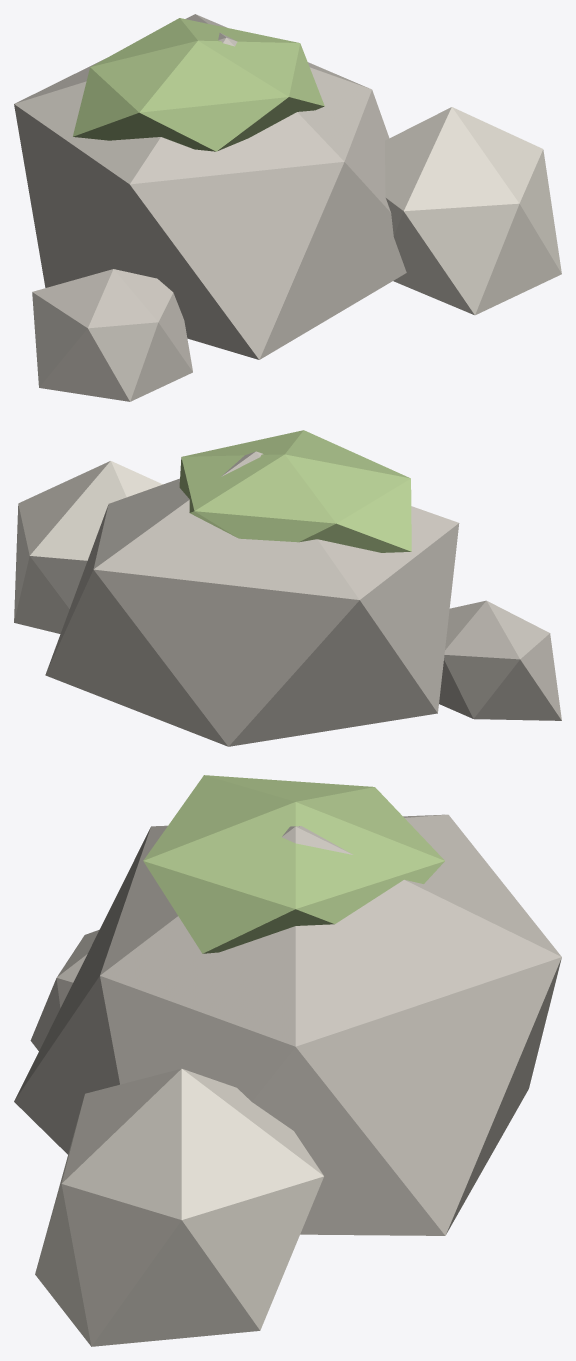
File: rock.glb
3 views of the same model, one above another, from view 1: azimuth 30°, elevation 25°; view 2: azimuth 150°, elevation 25°; view 3: azimuth 270°, elevation 25° (orthographic). The views are drawn at different scales.
Parts seen in each view (by area): view 1: rock; view 2: rock; view 3: rock.
Boxes of the visible parts, x1,y1,x2,y2 form: rock: [14, 14, 561, 401]; rock: [14, 430, 561, 746]; rock: [14, 775, 561, 1346].
Size of the model in its own units: 0.367 by 0.17 by 0.2408.
